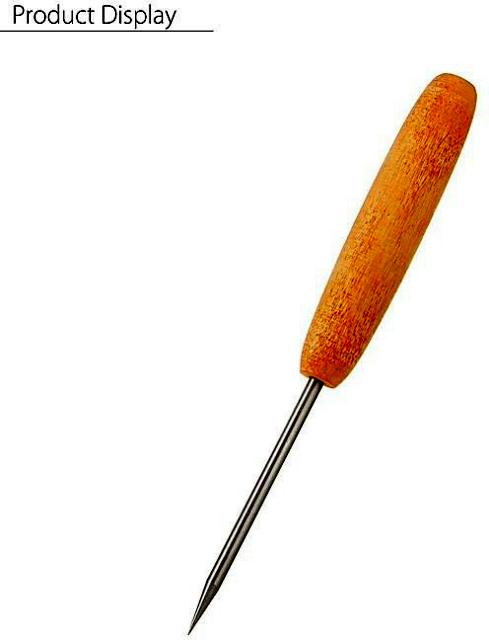ice pick: (186, 74, 478, 634)
